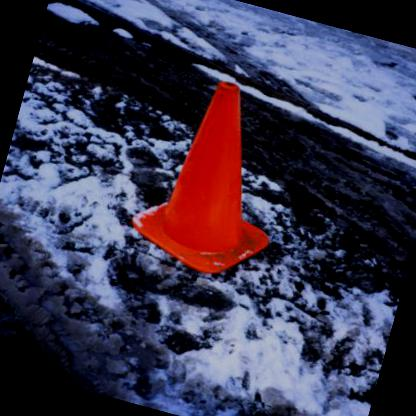cone: (121, 63, 304, 288)
